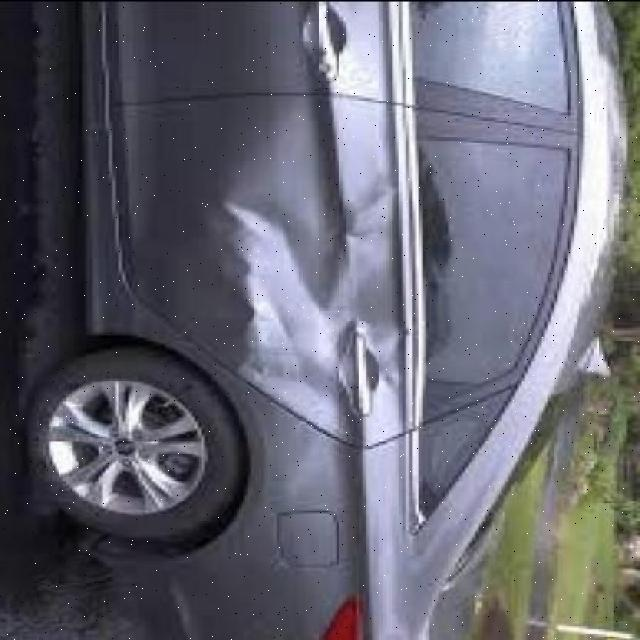damage: (220, 176, 421, 468)
